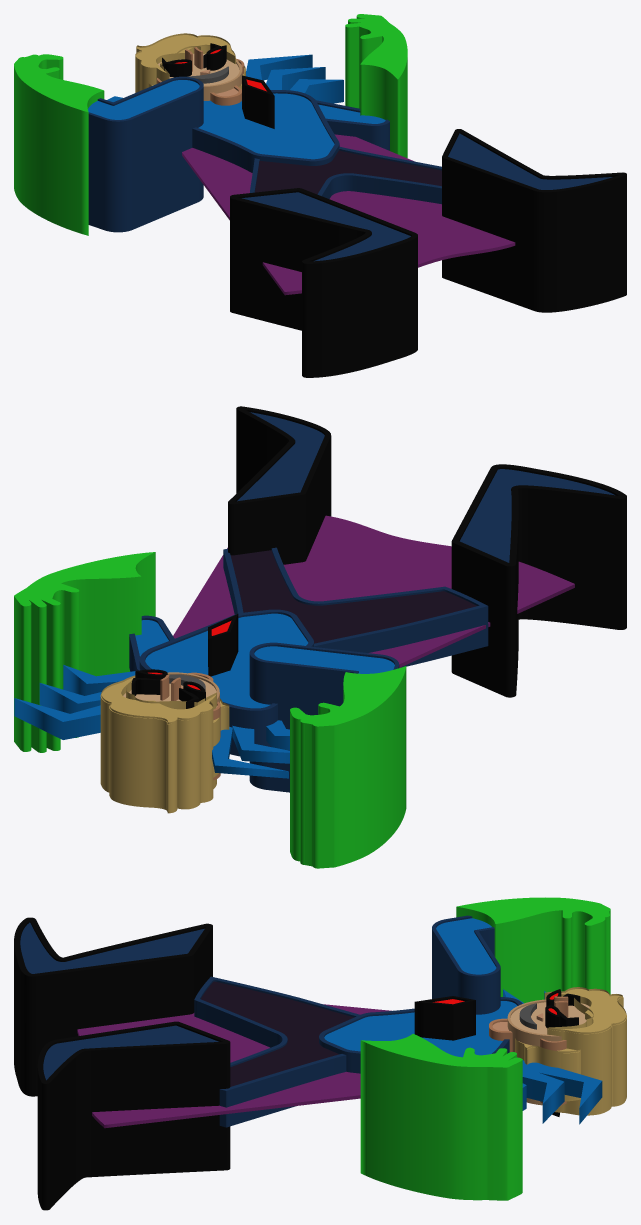
File: emoji_u1f9b9_1f3fc.glb
The picture shows the model from 3 angles, top to bottom: view 1: azimuth 30°, elevation 25°; view 2: azimuth 150°, elevation 25°; view 3: azimuth 270°, elevation 25°; orthographic projection. The views are drawn at different scales.
Visible parts, largest first — view 1: emoji_u1f9b9_1f3fc; view 2: emoji_u1f9b9_1f3fc; view 3: emoji_u1f9b9_1f3fc.
Boxes of the visible parts, bbox=[...] form: emoji_u1f9b9_1f3fc: bbox=[14, 14, 626, 377]; emoji_u1f9b9_1f3fc: bbox=[14, 406, 626, 868]; emoji_u1f9b9_1f3fc: bbox=[14, 897, 626, 1210].
Bounding box in the file's own units: 0.0238 × 0.008 × 0.0334.
